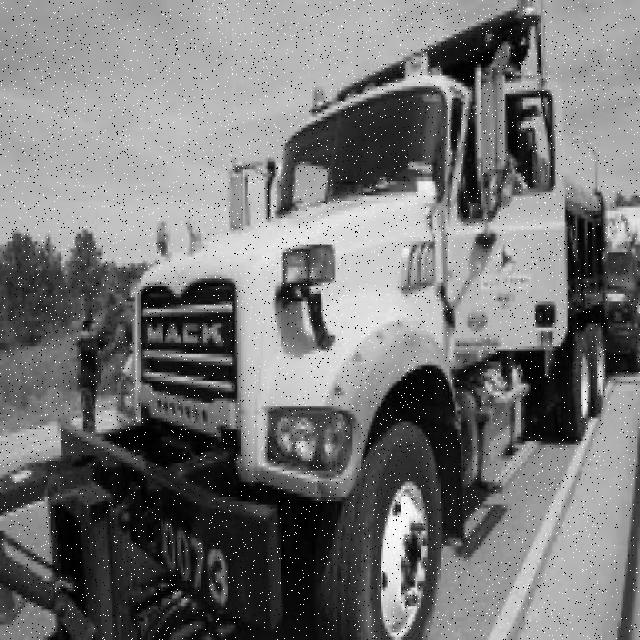Box Truck: (0, 0, 605, 640)
